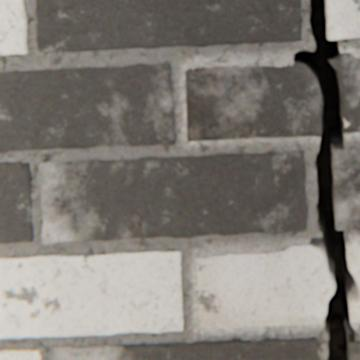brick: (40, 150, 306, 243), (0, 250, 183, 337), (0, 64, 176, 152), (37, 0, 302, 51), (55, 336, 317, 359), (0, 162, 34, 242), (331, 147, 359, 228), (0, 0, 28, 55), (326, 0, 359, 40), (0, 348, 43, 359), (348, 335, 359, 359)
broken_brick: (197, 244, 335, 327), (186, 62, 322, 140), (330, 53, 359, 132), (347, 239, 359, 321)
crack: (293, 0, 358, 359)
